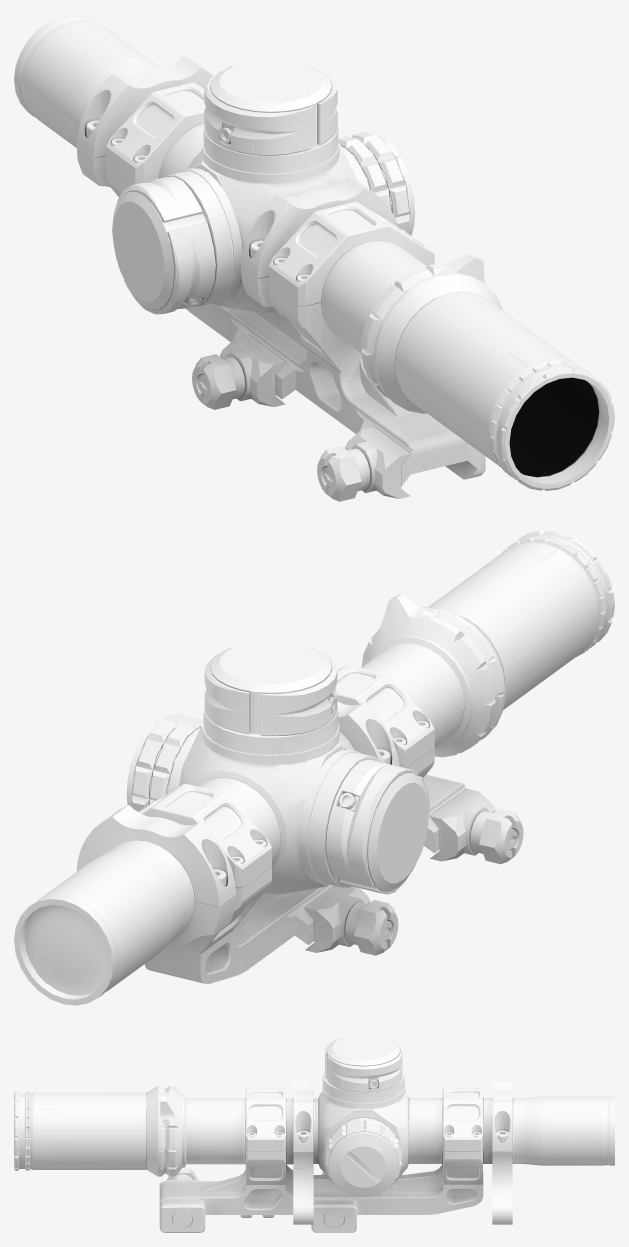
File: leupold_cqbss.glb
The picture shows the model from 3 angles, top to bottom: view 1: azimuth 30°, elevation 25°; view 2: azimuth 150°, elevation 25°; view 3: azimuth 270°, elevation 25°; orthographic projection. The views are drawn at different scales.
Parts seen in each view (by area): view 1: Assembly-44, Assembly-34, Assembly-84, Assembly-48, Assembly-30, Assembly-11, Assembly-32, Assembly-22, Assembly-24, Assembly-60, Assembly-46, Assembly-88 (+10 smaller); view 2: Assembly-44, Assembly-34, Assembly-48, Assembly-84, Assembly-46, Assembly-24, Assembly-32, Assembly-86, Assembly-30, Assembly-60, Assembly-20, Assembly-64 (+7 smaller); view 3: Assembly-44, Assembly-34, Assembly-14, Assembly-48, Assembly-46, Assembly-30, Assembly-32, Assembly-50, Assembly-18, Assembly-16, Assembly-54, Assembly-24 (+2 smaller).
Boxes of the visible parts, x1=… form: Assembly-44: x1=14, y1=14, x2=614, y2=490; Assembly-34: x1=106, y1=165, x2=485, y2=486; Assembly-84: x1=113, y1=168, x2=242, y2=309; Assembly-48: x1=202, y1=59, x2=339, y2=183; Assembly-30: x1=268, y1=202, x2=434, y2=305; Assembly-11: x1=509, y1=377, x2=593, y2=472; Assembly-32: x1=106, y1=82, x2=205, y2=184; Assembly-22: x1=241, y1=176, x2=397, y2=278; Assembly-24: x1=76, y1=56, x2=213, y2=158; Assembly-60: x1=204, y1=70, x2=311, y2=155; Assembly-46: x1=187, y1=143, x2=357, y2=312; Assembly-88: x1=124, y1=222, x2=215, y2=314; Assembly-44: x1=14, y1=530, x2=614, y2=1005; Assembly-34: x1=144, y1=748, x2=466, y2=984; Assembly-48: x1=202, y1=640, x2=339, y2=764; Assembly-84: x1=299, y1=749, x2=428, y2=890; Assembly-46: x1=179, y1=725, x2=354, y2=894; Assembly-24: x1=76, y1=805, x2=235, y2=907; Assembly-32: x1=138, y1=783, x2=271, y2=887; Assembly-86: x1=326, y1=759, x2=417, y2=886; Assembly-30: x1=335, y1=665, x2=434, y2=767; Assembly-60: x1=260, y1=644, x2=337, y2=735; Assembly-20: x1=132, y1=713, x2=203, y2=811; Assembly-64: x1=430, y1=789, x2=495, y2=861; Assembly-44: x1=14, y1=1086, x2=614, y2=1176; Assembly-34: x1=159, y1=1149, x2=483, y2=1232; Assembly-14: x1=328, y1=1117, x2=398, y2=1196; Assembly-48: x1=322, y1=1034, x2=405, y2=1109; Assembly-46: x1=318, y1=1092, x2=408, y2=1181; Assembly-30: x1=245, y1=1088, x2=285, y2=1151; Assembly-32: x1=442, y1=1088, x2=482, y2=1150; Assembly-50: x1=327, y1=1048, x2=402, y2=1091; Assembly-18: x1=492, y1=1151, x2=512, y2=1224; Assembly-16: x1=293, y1=1152, x2=313, y2=1224; Assembly-54: x1=311, y1=1200, x2=356, y2=1232; Assembly-24: x1=492, y1=1081, x2=512, y2=1151.
Size of what is drawn, in the model's own units: 0.2058 by 0.2206 by 0.6955.
Materials: 5 (1 with a texture image).
